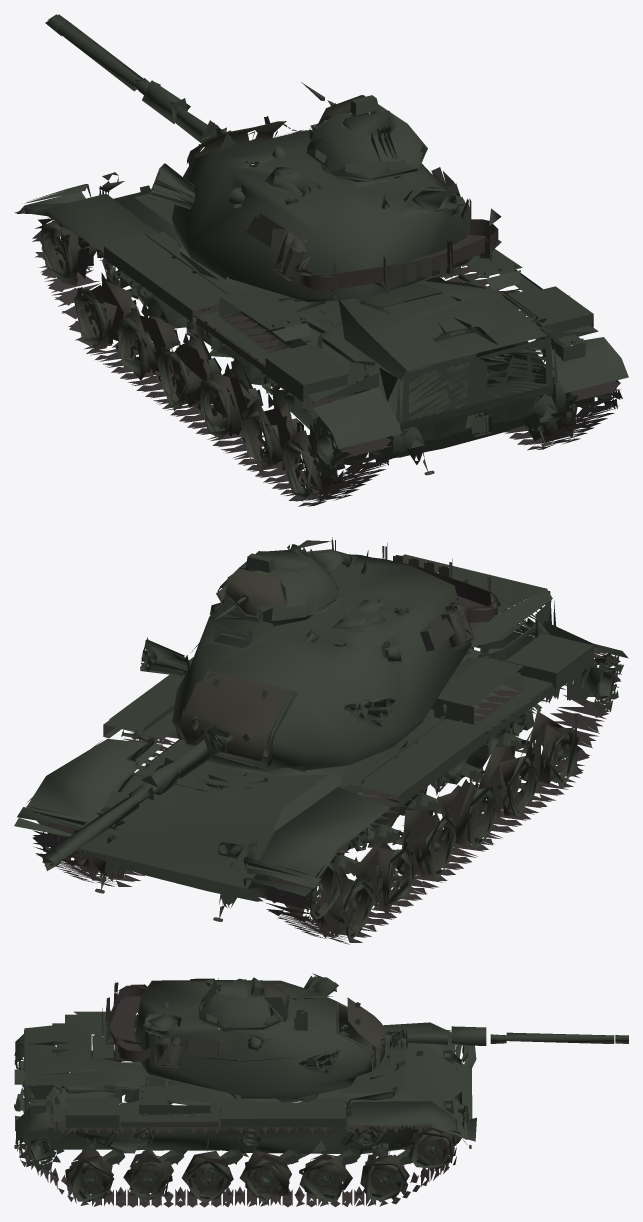
File: type_cm11.glb
3 views of the same model, one above another, from view 1: azimuth 30°, elevation 25°; view 2: azimuth 150°, elevation 25°; view 3: azimuth 270°, elevation 25° (orthographic). The views are drawn at different scales.
Parts seen in each view (by area): view 1: Object_10; view 2: Object_10; view 3: Object_10.
Boxes of the visible parts, left/top/right/bottom form: Object_10: left=14, top=14, right=628, bottom=506; Object_10: left=14, top=537, right=628, bottom=944; Object_10: left=14, top=973, right=628, bottom=1207.
Bounding box in the file's own units: 3.66 × 3.22 × 9.26.
1 material, 1 textured.
